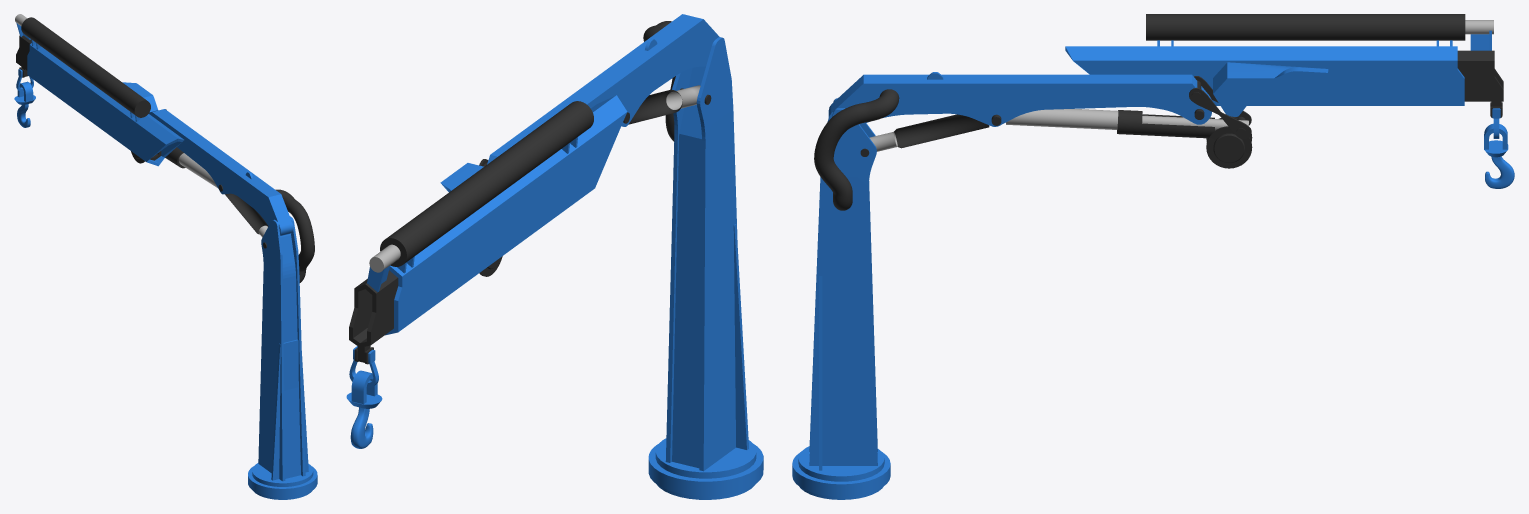
File: JibKnucle.glb
3 renders of one model, left to right at view 1: azimuth 30°, elevation 25°; view 2: azimuth 150°, elevation 25°; view 3: azimuth 270°, elevation 25°, orthographic. The views are drawn at different scales.
Parts seen in each view (by area): view 1: TopArm_9, BottomArm_0, MiddleArm_17, Cube.001_1, Cube.002_2, Base_4, Pipe_16, Piston1_3, HookHolder_8, Piston2_18; view 2: TopArm_9, BottomArm_0, Cube.001_1, MiddleArm_17, Base_4, Cube.002_2, Piston1_3, HookHolder_8, Hook_7, Cube.005_5, Pipe_16; view 3: TopArm_9, BottomArm_0, MiddleArm_17, Base_4, Pipe_16, Cube.005_5, Piston2_18, Piston1_3, Cylinder.001_19, Spool_6, HookHolder_8, Cube.002_2.
Part boxes in pixels (x1=…): TopArm_9: x1=15, y1=14, x2=184, y2=166; BottomArm_0: x1=258, y1=216, x2=305, y2=481; MiddleArm_17: x1=150, y1=109, x2=293, y2=235; Cube.001_1: x1=280, y1=233, x2=300, y2=478; Cube.002_2: x1=271, y1=339, x2=308, y2=480; Base_4: x1=248, y1=463, x2=317, y2=499; Pipe_16: x1=275, y1=189, x2=314, y2=282; Piston1_3: x1=225, y1=193, x2=268, y2=237; HookHolder_8: x1=14, y1=69, x2=35, y2=104; Piston2_18: x1=179, y1=153, x2=217, y2=187; TopArm_9: x1=349, y1=95, x2=627, y2=347; BottomArm_0: x1=665, y1=37, x2=737, y2=471; Cube.001_1: x1=672, y1=66, x2=705, y2=468; MiddleArm_17: x1=487, y1=14, x2=719, y2=164; Base_4: x1=648, y1=438, x2=763, y2=499; Cube.002_2: x1=733, y1=224, x2=748, y2=449; Piston1_3: x1=628, y1=85, x2=700, y2=124; HookHolder_8: x1=346, y1=346, x2=382, y2=408; Hook_7: x1=350, y1=407, x2=373, y2=448; Cube.005_5: x1=440, y1=163, x2=483, y2=192; Pipe_16: x1=643, y1=21, x2=675, y2=141; TopArm_9: x1=1065, y1=14, x2=1503, y2=105; BottomArm_0: x1=809, y1=98, x2=877, y2=465; MiddleArm_17: x1=828, y1=72, x2=1211, y2=126; Base_4: x1=792, y1=446, x2=890, y2=499; Pipe_16: x1=814, y1=89, x2=899, y2=210; Cube.005_5: x1=1213, y1=62, x2=1328, y2=116; Piston2_18: x1=1006, y1=108, x2=1248, y2=130; Piston1_3: x1=869, y1=114, x2=989, y2=151; Cylinder.001_19: x1=1117, y1=110, x2=1214, y2=138; Spool_6: x1=1206, y1=116, x2=1252, y2=168; HookHolder_8: x1=1484, y1=108, x2=1508, y2=157; Cube.002_2: x1=819, y1=276, x2=822, y2=470.
Size of the model in its own units: 0.2892 by 1.24 by 1.82.
